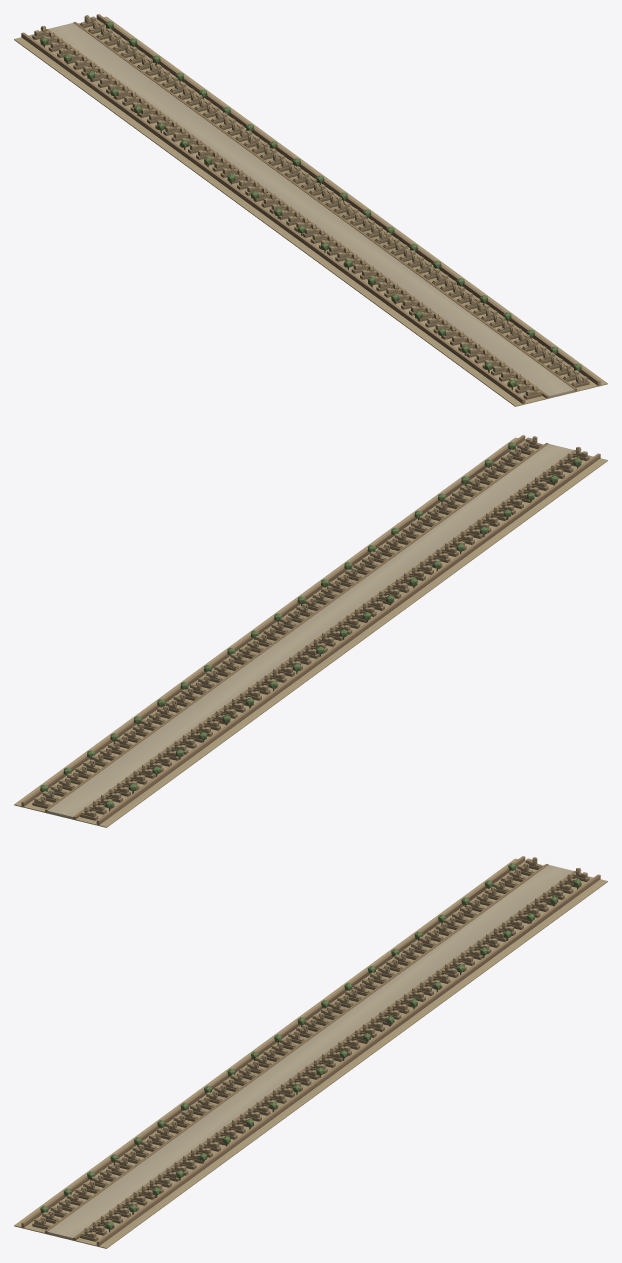
File: avenue-of-sphinxes.glb
3 views of the same model, one above another, from view 1: azimuth 30°, elevation 25°; view 2: azimuth 150°, elevation 25°; view 3: azimuth 330°, elevation 25° (orthographic).
Parts seen in each view (by area): view 1: p0_road, p1_sphinxes, p2_walls; view 2: p0_road, p1_sphinxes, p2_walls; view 3: p0_road, p1_sphinxes, p2_walls.
Part boxes in pixels (x1,y1,x2,y2): p0_road: [14, 16, 607, 406]; p1_sphinxes: [32, 15, 589, 399]; p2_walls: [21, 14, 600, 403]; p0_road: [14, 437, 607, 827]; p1_sphinxes: [32, 436, 589, 820]; p2_walls: [21, 435, 600, 824]; p0_road: [14, 858, 607, 1248]; p1_sphinxes: [32, 857, 589, 1241]; p2_walls: [21, 856, 600, 1245].
Bounding box in the file's own units: 32.01 × 3.94 × 300.
